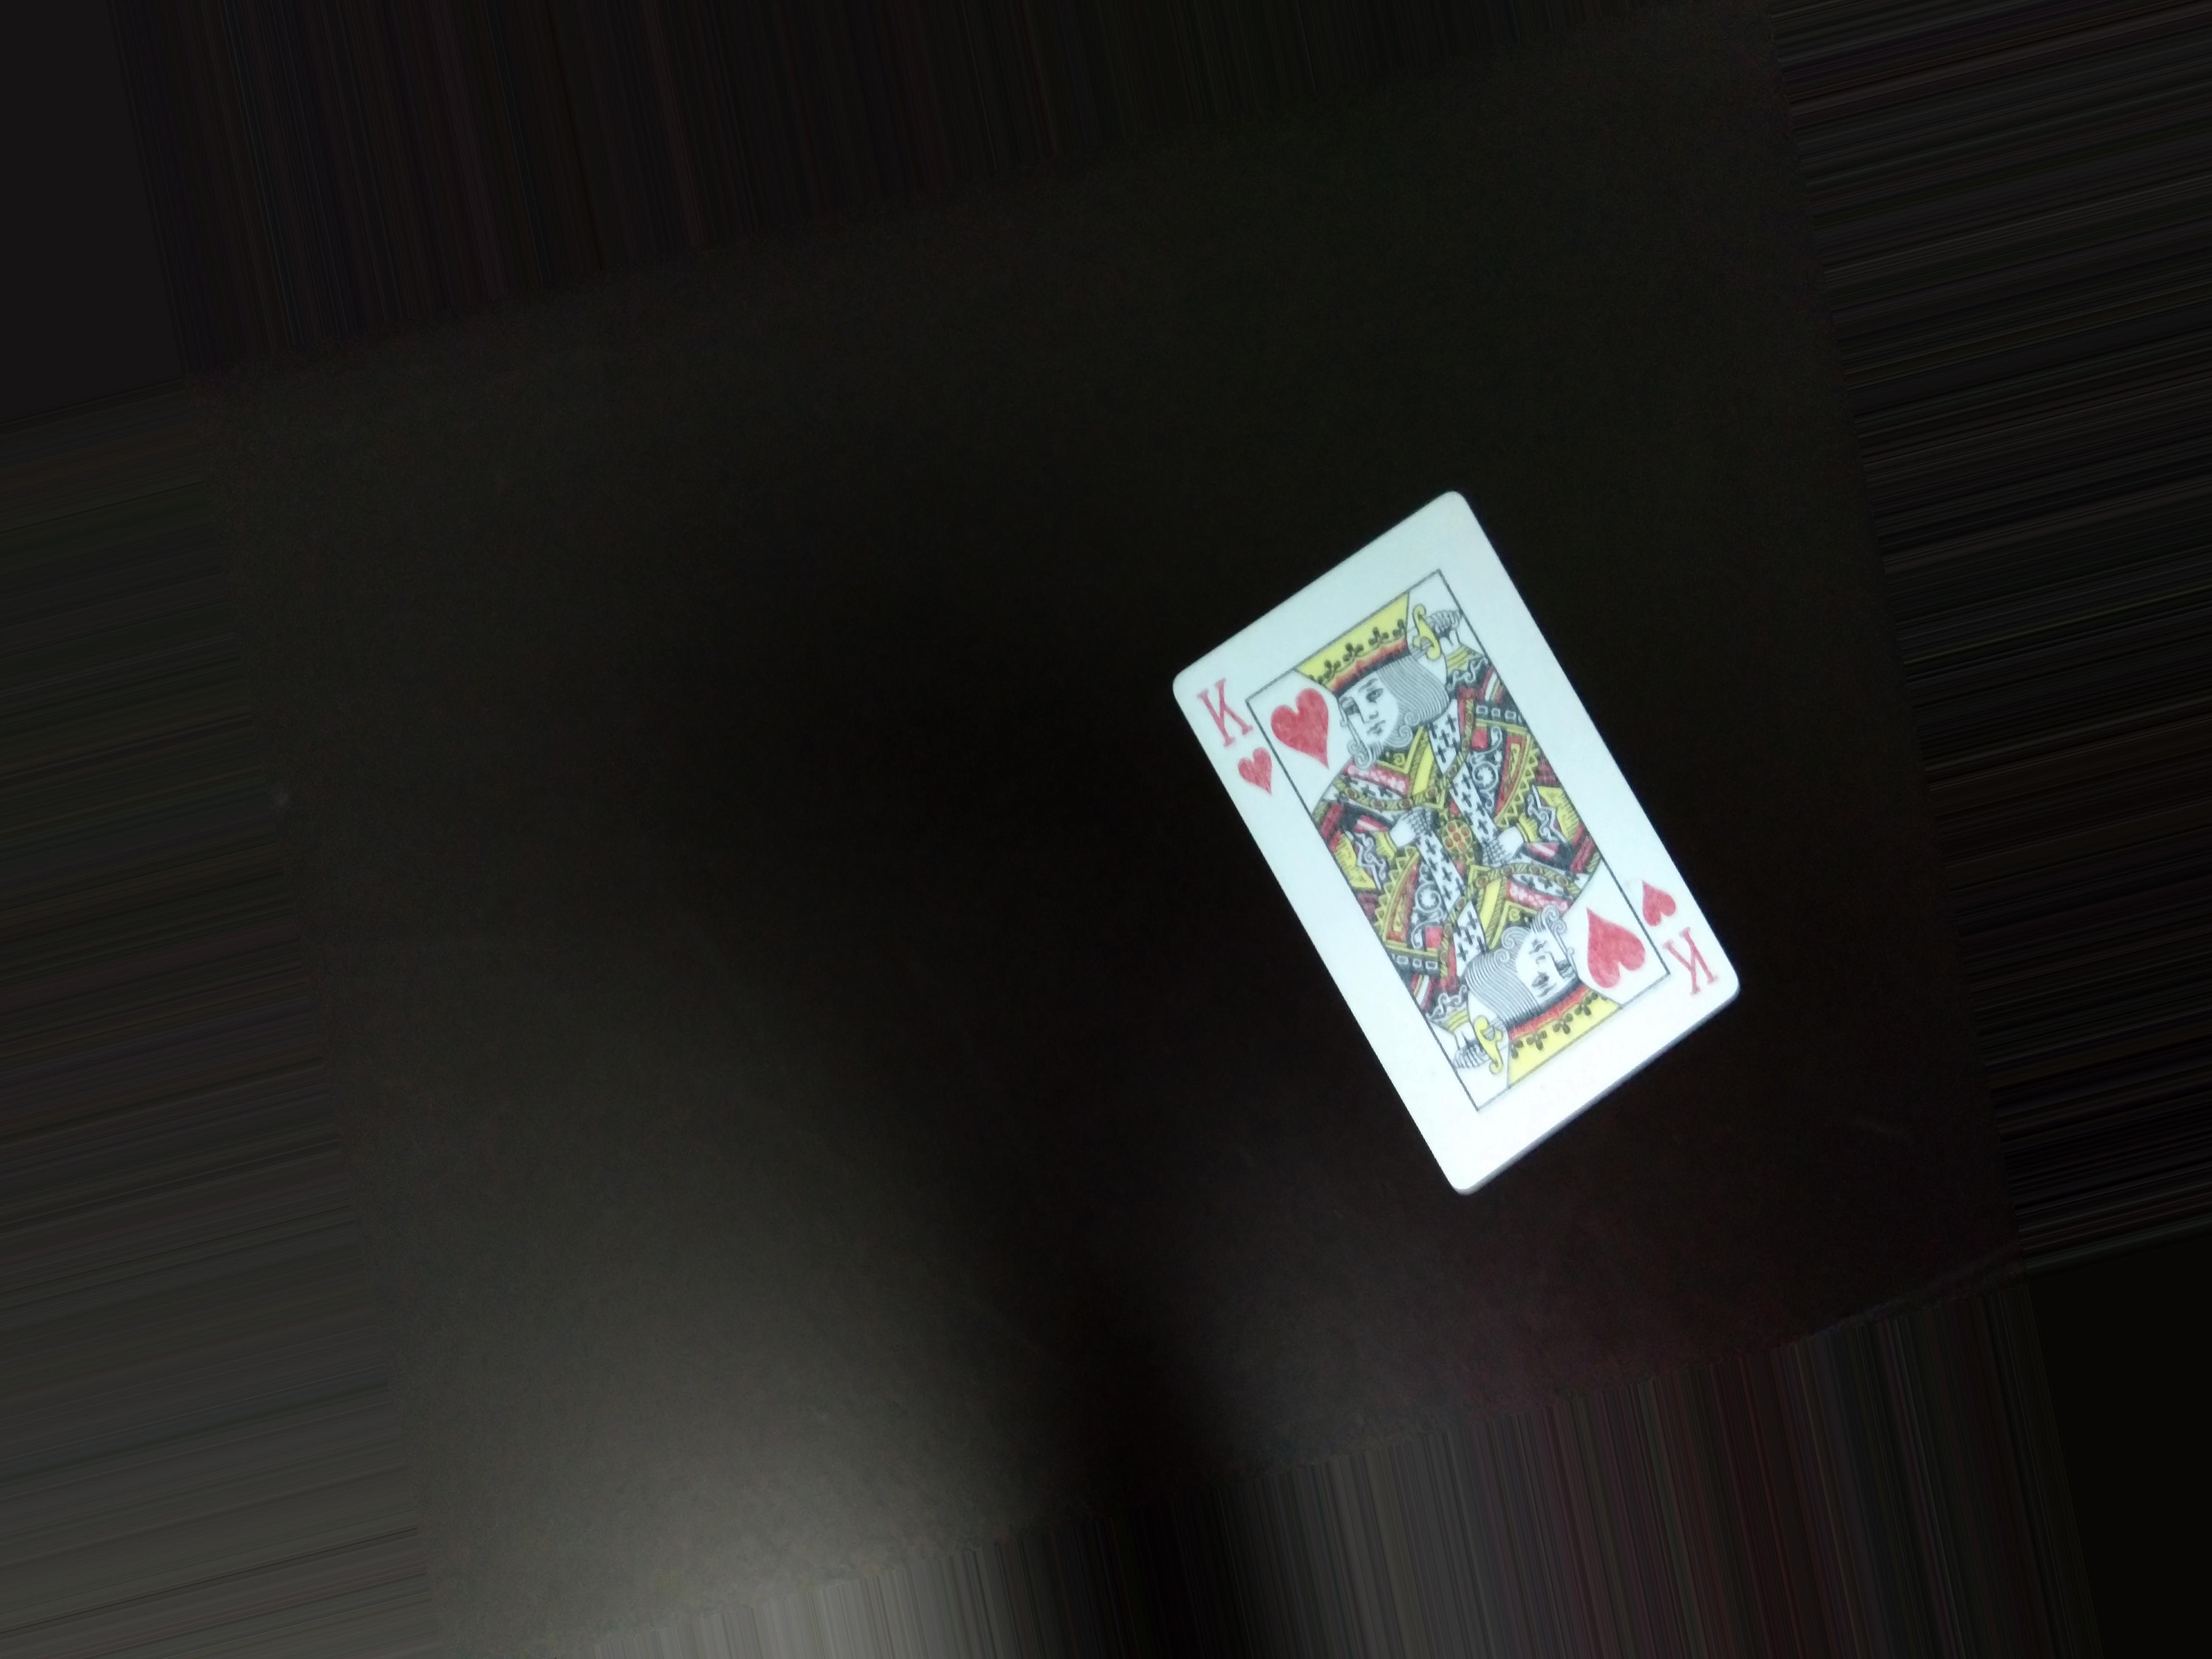KH: (1197, 673, 1270, 824)
